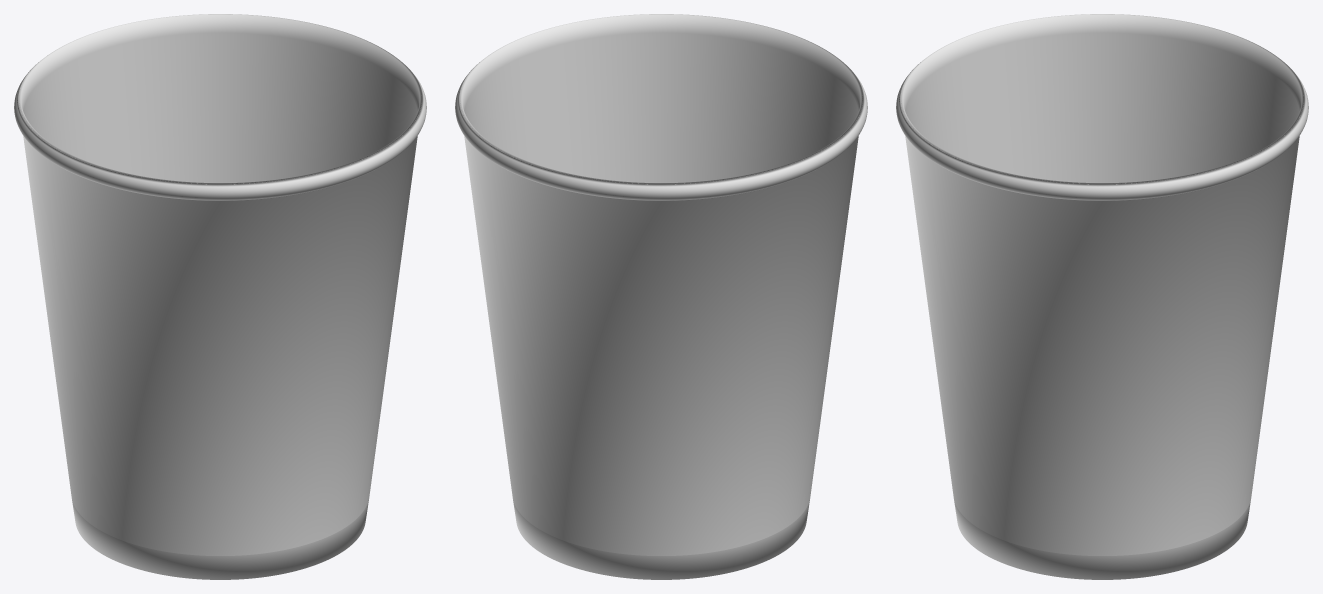
File: gota-7oz.glb
The picture shows the model from 3 angles, left to right: view 1: azimuth 30°, elevation 25°; view 2: azimuth 150°, elevation 25°; view 3: azimuth 270°, elevation 25°; orthographic projection.
Parts seen in each view (by area): view 1: GOTSA.008; view 2: GOTSA.008; view 3: GOTSA.008.
Boxes of the visible parts, x1=… form: GOTSA.008: x1=14, y1=14, x2=426, y2=579; GOTSA.008: x1=455, y1=14, x2=867, y2=579; GOTSA.008: x1=896, y1=14, x2=1308, y2=579.
Size of the model in its own units: 0.0709 by 0.0795 by 0.0709.
Materials: 2 (1 with a texture image).
